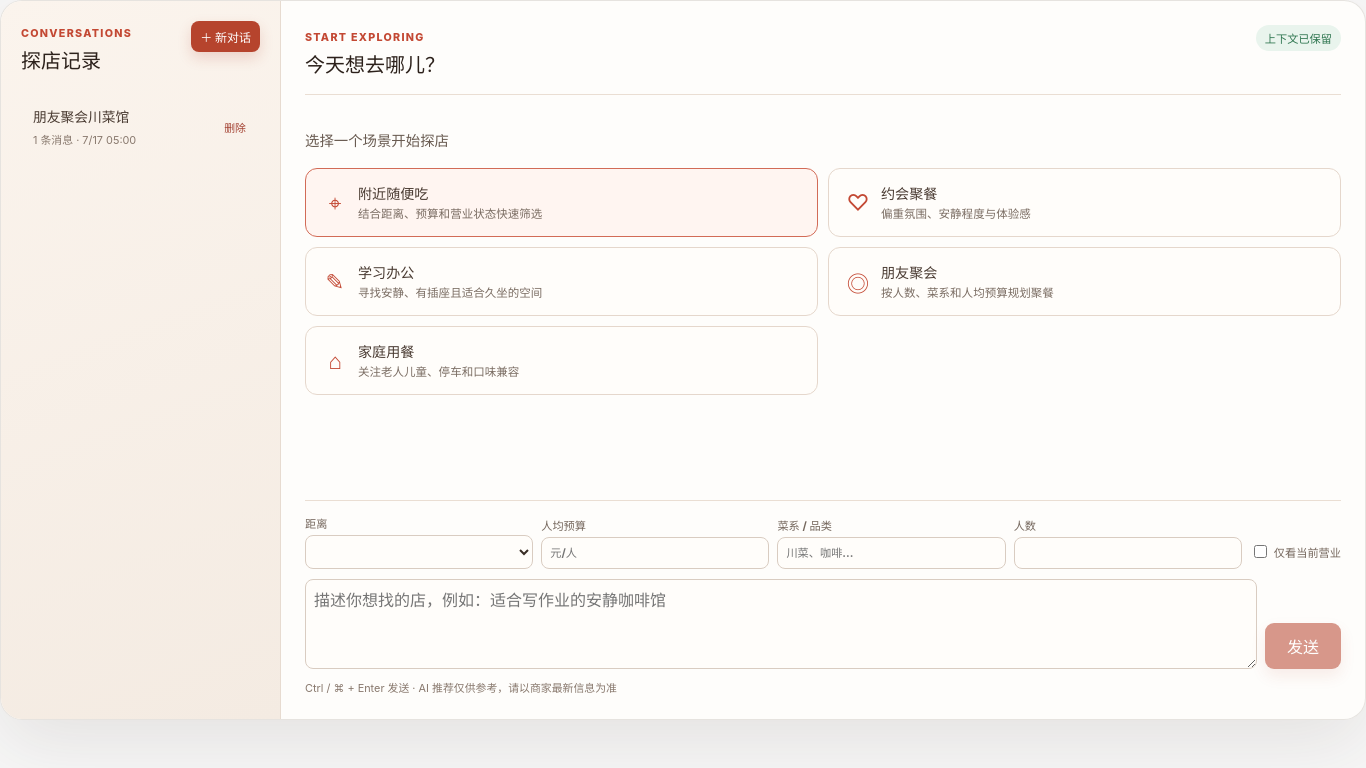
it: ConversationWorkspace › confirms and deletes the active conversation before resetting the workspace
The image size is (1366, 768).
Click the button "朋友聚会川菜馆 1 条消息 · 7/17 05:00": x=140, y=126 [21,94,260,159]
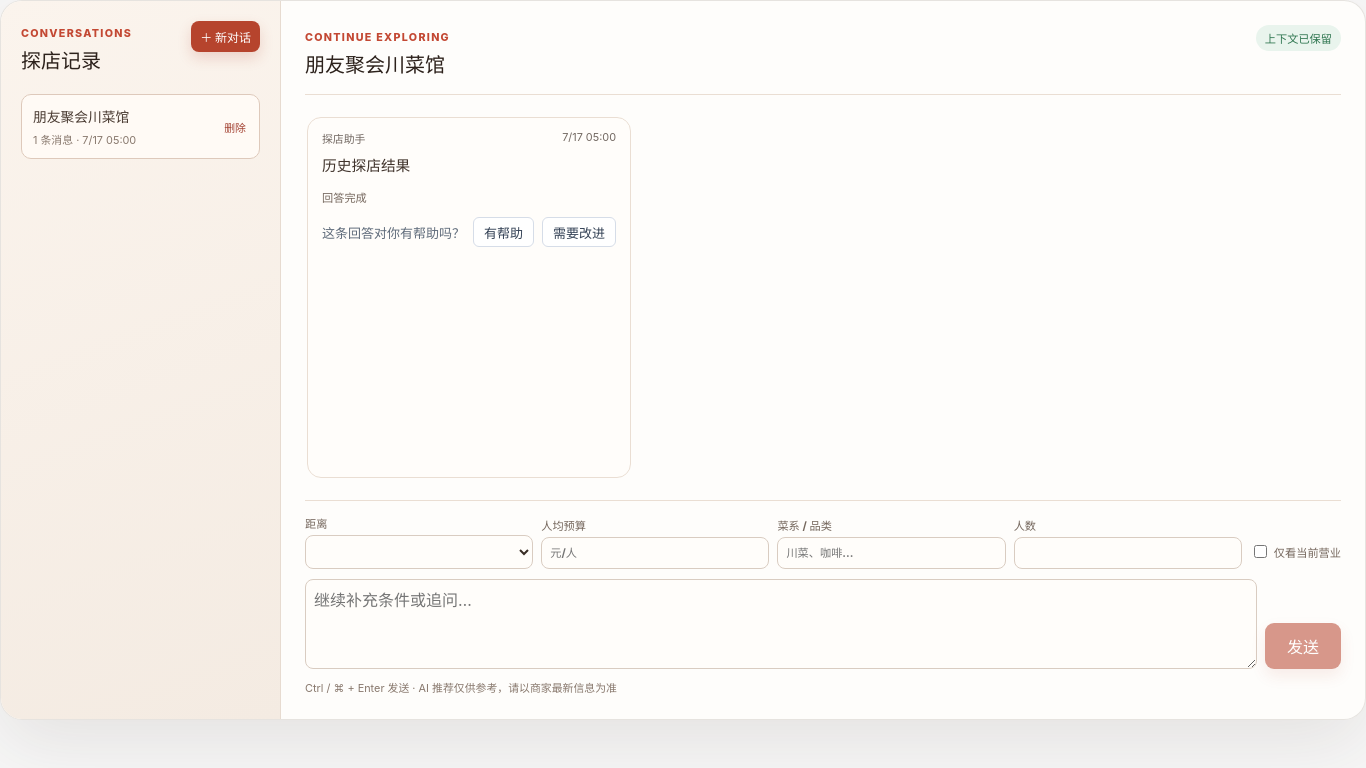
Result: the text "历史探店结果" is shown at [322,157,410,175]
Click the button "删除": x=235, y=126 [217,114,253,140]
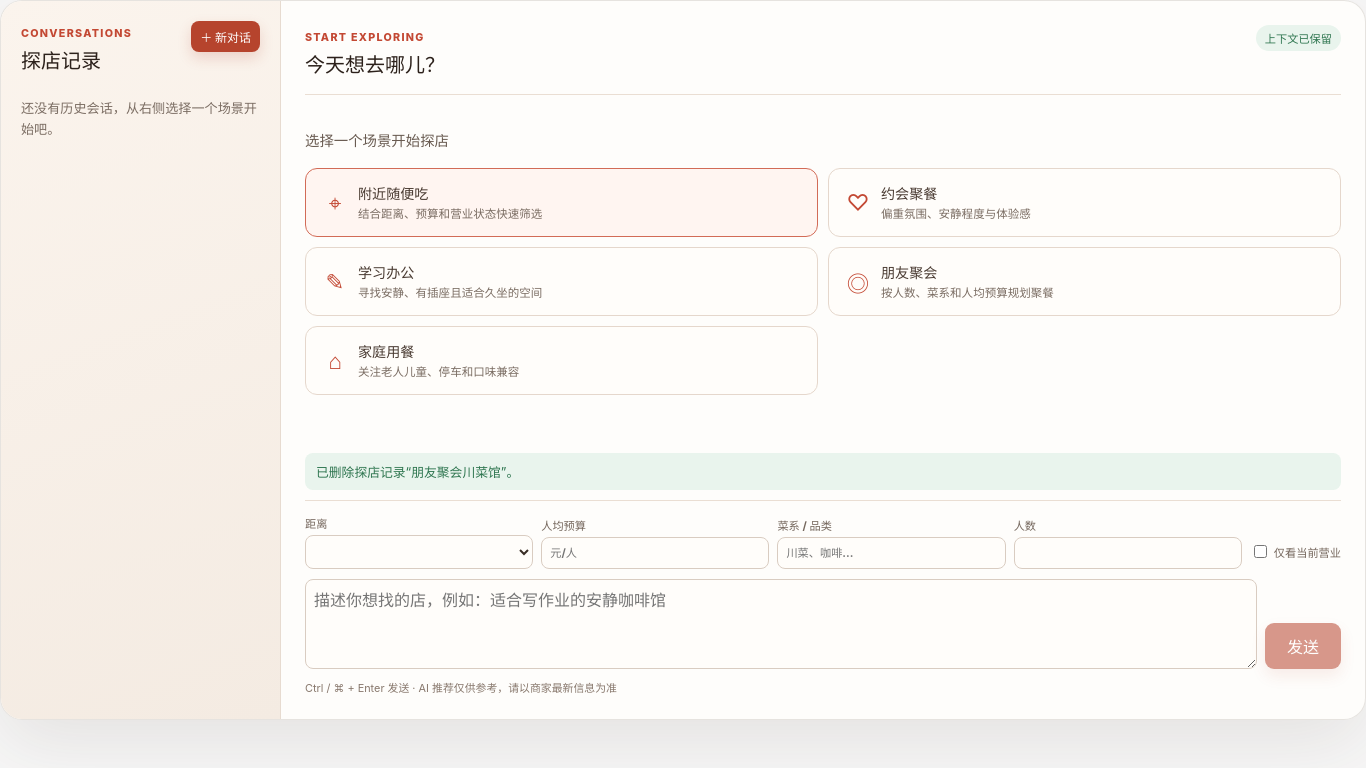
Result: the text "已删除探店记录“朋友聚会川菜馆”" is shown at [316,465,519,480]
Result: the text "今天想去哪儿？" is shown at [305,49,445,78]
Result: the text "历史探店结果" is gone
